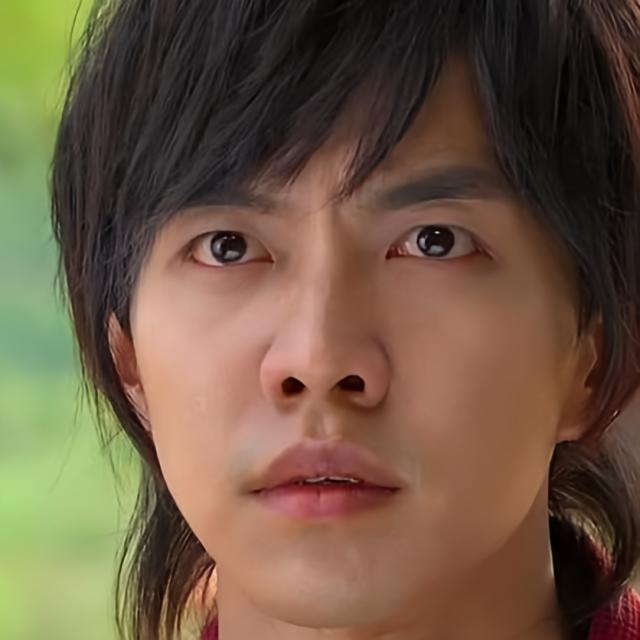anger: (127, 62, 571, 637)
